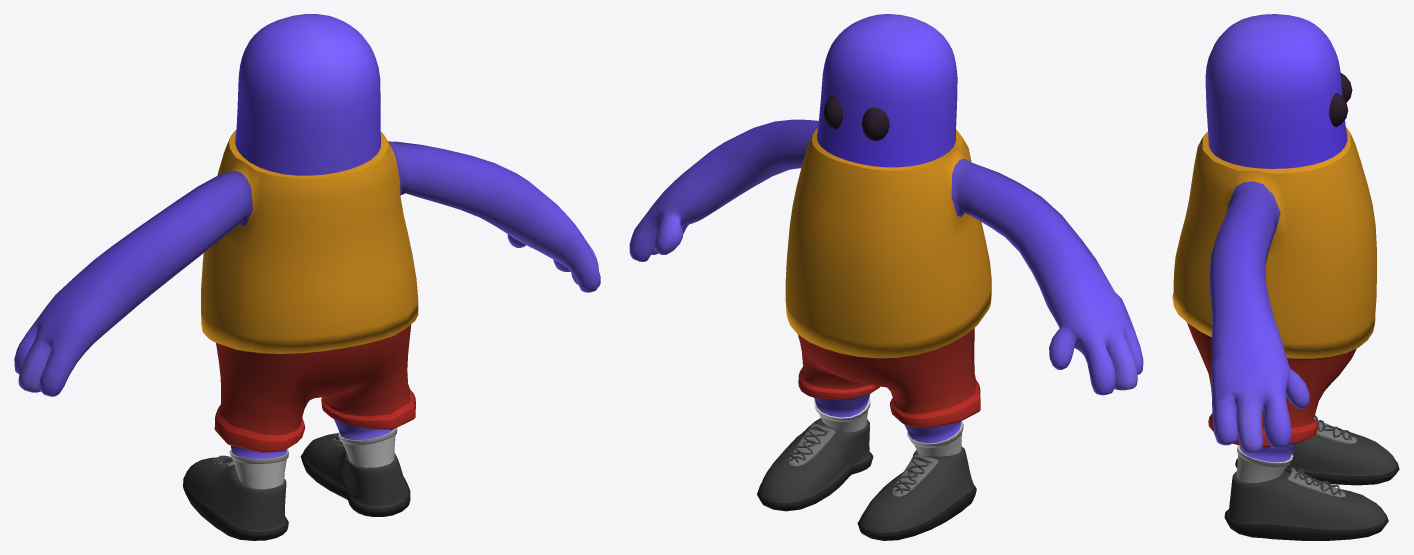
The model's file is CharacterWithoutRig.fbx.
The picture shows the model from 3 angles, left to right: view 1: azimuth 30°, elevation 25°; view 2: azimuth 150°, elevation 25°; view 3: azimuth 270°, elevation 25°; orthographic projection. The views are drawn at different scales.
Parts seen in each view (by area): view 1: Plane.043; view 2: Plane.043; view 3: Plane.043.
Part boxes in pixels (x1,y1,x2,y2): Plane.043: (14,14,600,540); Plane.043: (629,14,1143,540); Plane.043: (1172,14,1399,540).
Size of the model in its own units: 409 by 348 by 151.
